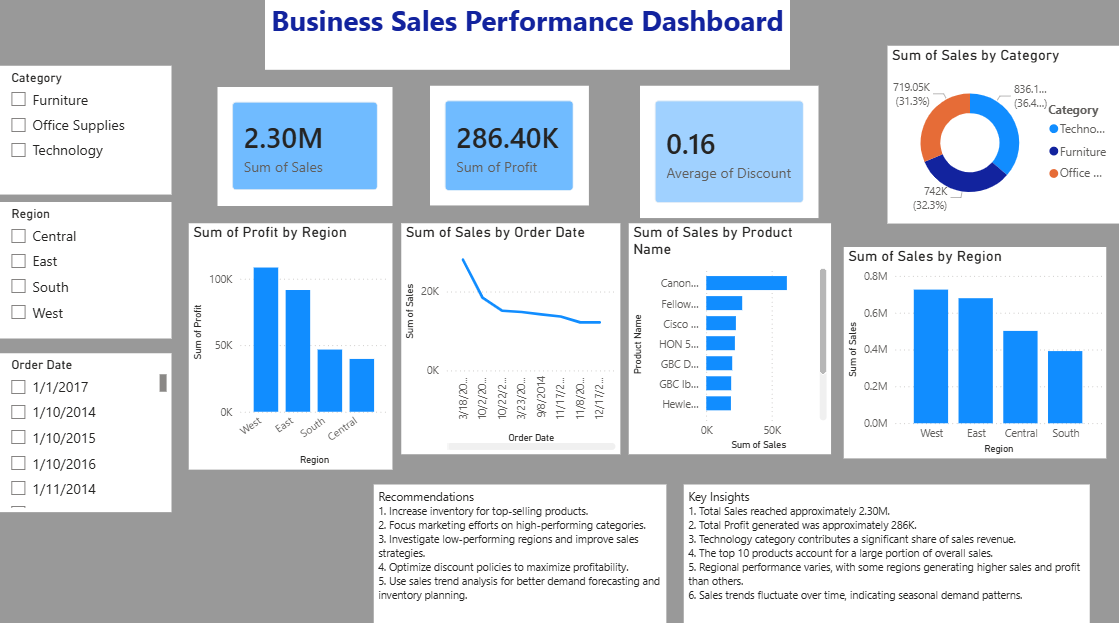

What the dashboard file says about the page in this screenshot:
{"tool":"powerbi","page":{"name":"Page 1","canvas":[1280,720],"ordinal":0},"visuals":[{"type":"cardVisual","fields":{"Data":["Sum(Sample - Superstore (3).Sales)"]},"box":[0,23.8,300,300],"z":2},{"type":"cardVisual","fields":{"Data":["Sum(Sample - Superstore (3).Profit)"]},"box":[288.3,0,300,300],"z":3},{"type":"cardVisual","fields":{"Data":["Avg(Sample - Superstore (3).Discount)"]},"box":[615.7,0,300,300],"z":4},{"type":"lineChart","fields":{"Category":["Sample - Superstore (3).Order Date"],"Y":["Sum(Sample - Superstore (3).Sales)"]},"box":[0,271.2,300,300],"z":5},{"type":"donutChart","fields":{"Category":["Sample - Superstore (3).Category"],"Y":["Sum(Sample - Superstore (3).Sales)"]},"box":[941.2,300,300,257.5],"z":6},{"type":"clusteredBarChart","fields":{"Category":["Sample - Superstore (3).Product Name"],"Y":["Sum(Sample - Superstore (3).Sales)"]},"box":[636.2,257.5,290,300],"z":7},{"type":"columnChart","fields":{"Category":["Sample - Superstore (3).Region"],"Y":["Sum(Sample - Superstore (3).Sales)"]},"box":[926,0,300,300],"z":8},{"type":"clusteredColumnChart","fields":{"Category":["Sample - Superstore (3).Region"],"Y":["Sum(Sample - Superstore (3).Profit)"]},"box":[320,257.5,300,300],"z":9},{"type":"textbox","box":[803.8,571.2,476.2,148.8],"z":10},{"type":"textbox","box":[320,571.2,340,148.8],"z":11},{"type":"textbox","box":[0,0,572.5,77.5],"z":12}]}

Visuals, with their boxes in screenshot pixels (x1, y1, x2, y2), scaled from the page's 1280x720 canvas onto the 1119x623 screenshot:
cardVisual - Sum(Sample - Superstore (3).Sales): 0, 21, 262, 280
cardVisual - Sum(Sample - Superstore (3).Profit): 252, 0, 514, 260
cardVisual - Avg(Sample - Superstore (3).Discount): 538, 0, 801, 260
lineChart - Sample - Superstore (3).Order Date x Sum(Sample - Superstore (3).Sales): 0, 235, 262, 494
donutChart - Sample - Superstore (3).Category x Sum(Sample - Superstore (3).Sales): 823, 260, 1085, 482
clusteredBarChart - Sample - Superstore (3).Product Name x Sum(Sample - Superstore (3).Sales): 556, 223, 810, 482
columnChart - Sample - Superstore (3).Region x Sum(Sample - Superstore (3).Sales): 810, 0, 1072, 260
clusteredColumnChart - Sample - Superstore (3).Region x Sum(Sample - Superstore (3).Profit): 280, 223, 542, 482
textbox: 703, 494, 1118, 622
textbox: 280, 494, 577, 622
textbox: 0, 0, 500, 67
